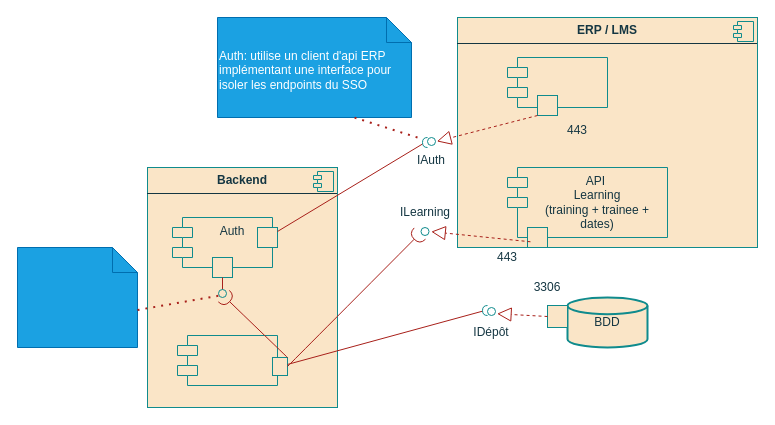
This 775x425 diagram has some shape labels left out. Here are the shapes that lost their labels. From the top down, the box of each, then its label:
(506, 56, 608, 108): SSO
(16, 246, 138, 348): Auth: SessionHandler Docs: presenceController
(176, 334, 278, 386): Docs (presence + Eval)
